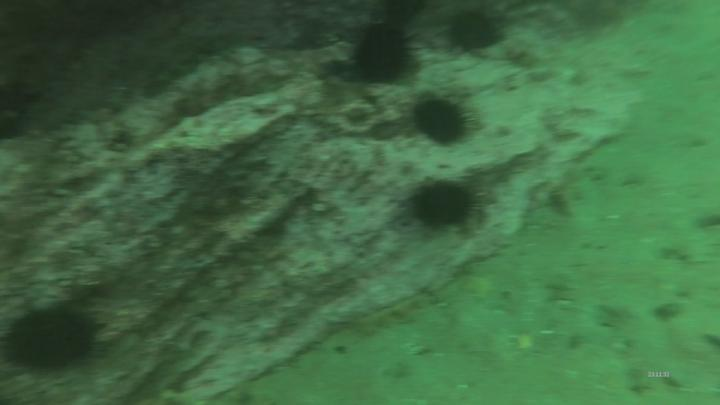echinus: (3, 303, 105, 378), (350, 20, 430, 88), (409, 175, 481, 238), (410, 96, 482, 150), (450, 8, 510, 58)
